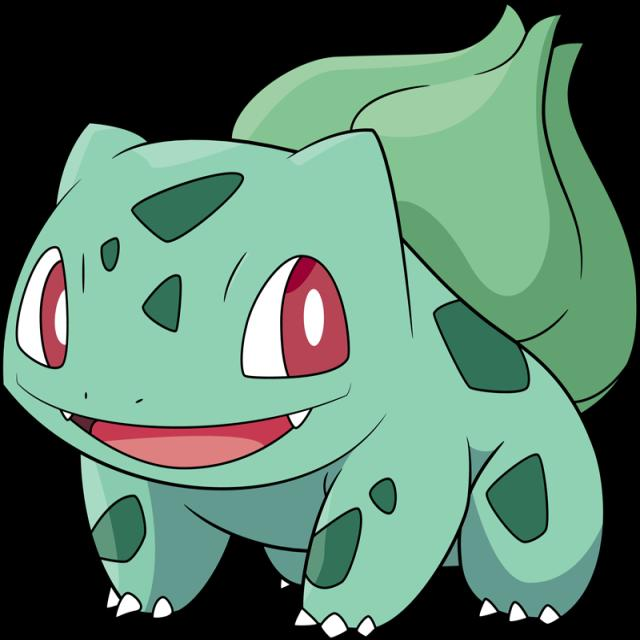Bulbasaur: (0, 130, 611, 621)
